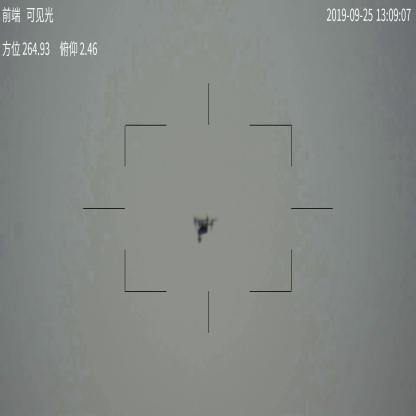uav: (190, 214, 215, 242)
